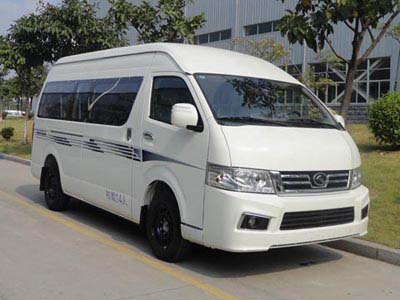midcar: (29, 44, 376, 265)
